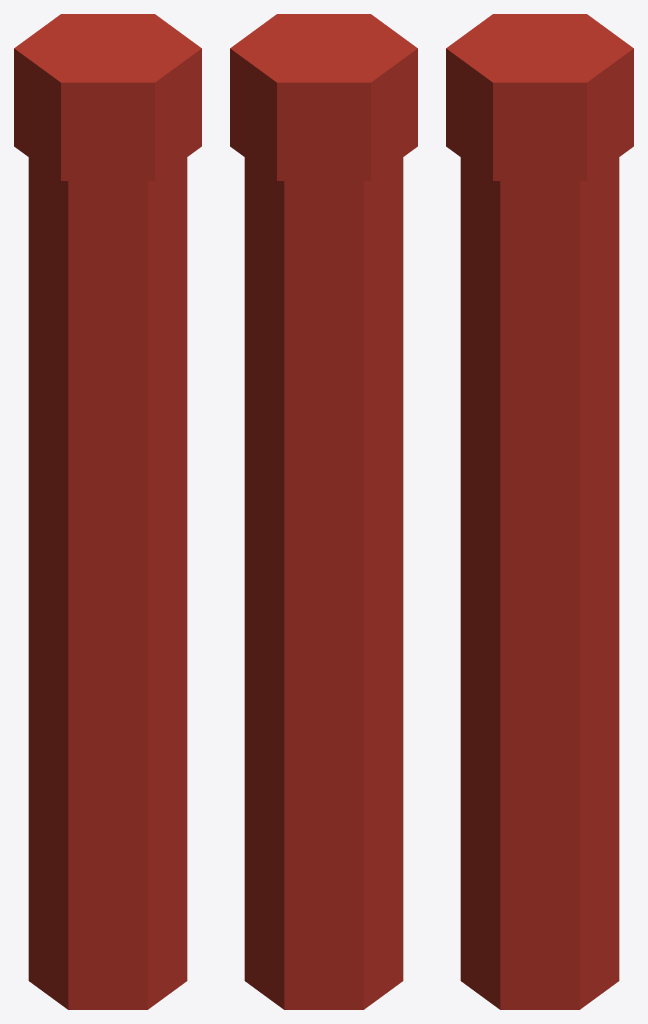
Rendered from prick_rod.glb.
3 renders of one model, left to right at view 1: azimuth 30°, elevation 25°; view 2: azimuth 150°, elevation 25°; view 3: azimuth 270°, elevation 25°, orthographic.
Visible parts, largest first — view 1: prick_rod; view 2: prick_rod; view 3: prick_rod.
Boxes of the visible parts, <box> form: prick_rod: <box>14,14,201,1009</box>; prick_rod: <box>230,14,417,1009</box>; prick_rod: <box>446,14,633,1009</box>.
Bounding box in the file's own units: 0.4503 × 2.85 × 0.52.
